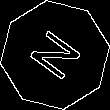N_SE: (23, 24, 87, 86)
